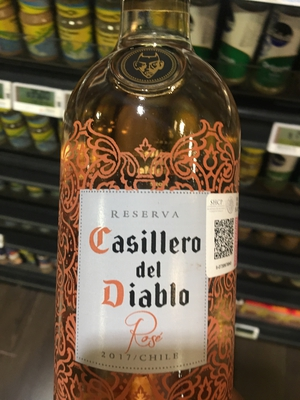casillero del diablo rose: (37, 16, 257, 400)
